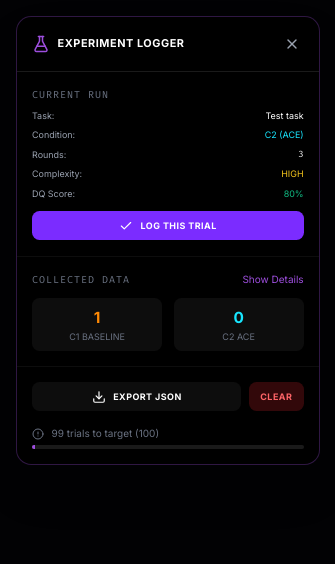
ExperimentLogger › toggles stats details when Show/Hide is clicked
Click the button "Show Details".
click(273, 279)  # box 242,272 -> 304,287
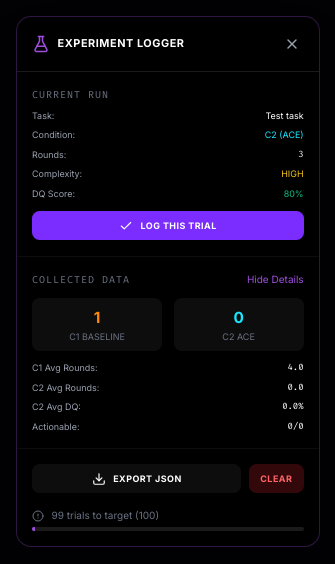
expect the button "Hide Details" is shown: met, box 247,272 -> 304,287
